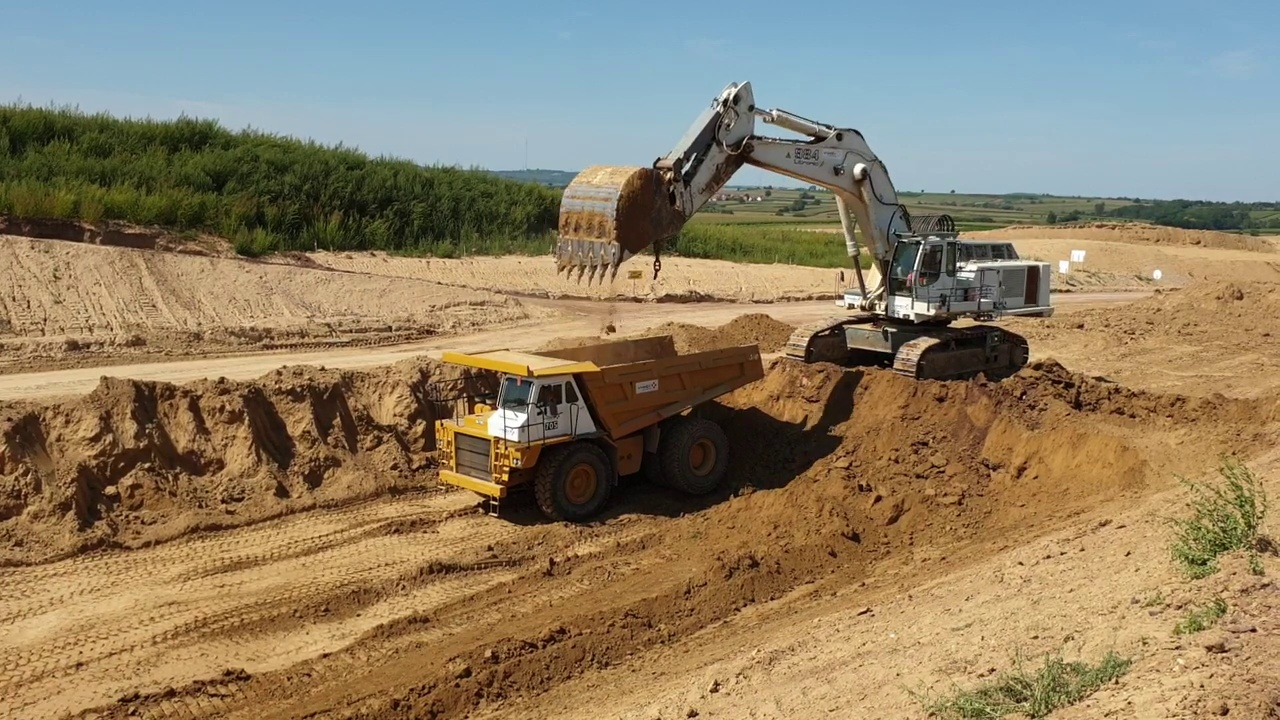excavator: (552, 74, 1056, 385)
truck: (415, 331, 776, 533)
